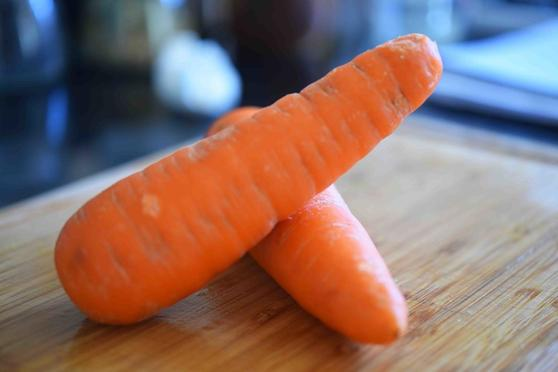carrot: (50, 37, 445, 339)
